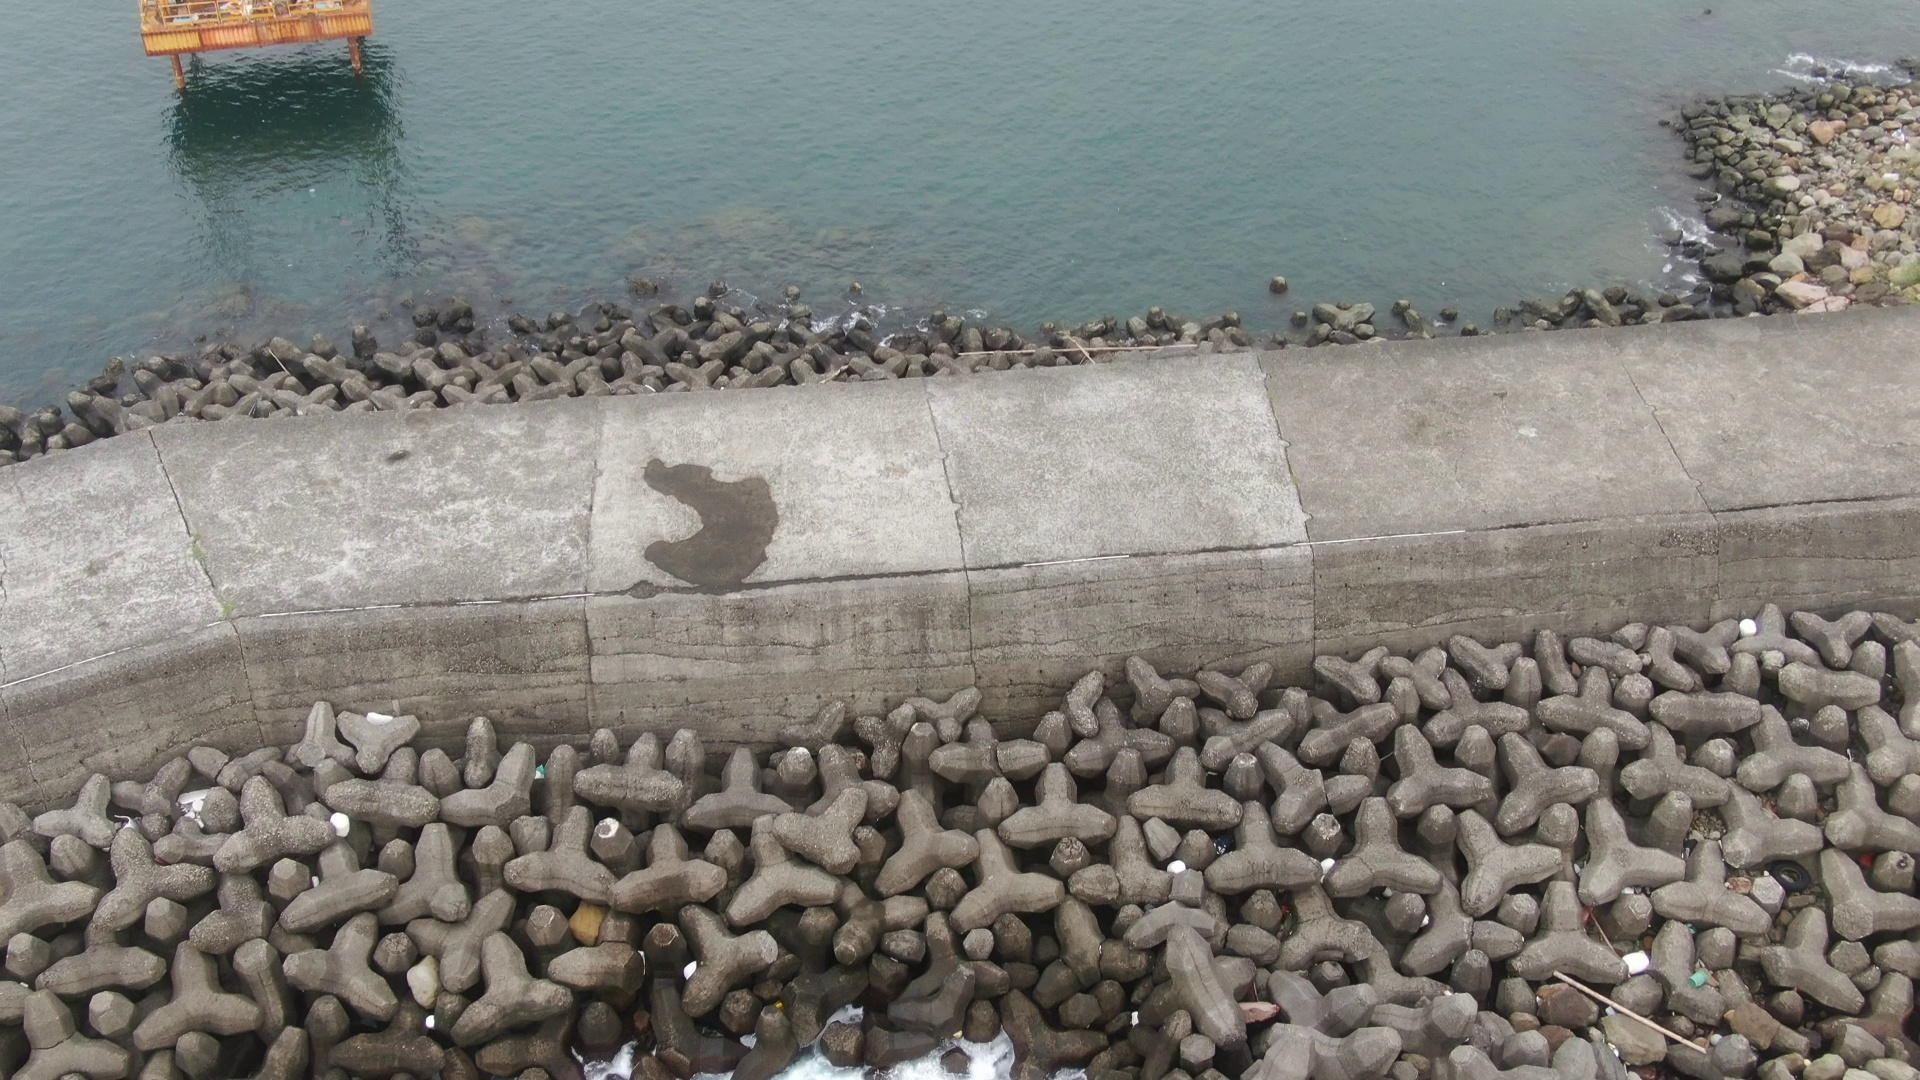garbage: (560, 897, 621, 951), (1677, 957, 1714, 997), (1615, 942, 1655, 978), (1575, 891, 1602, 934), (327, 804, 359, 840), (1737, 604, 1762, 649), (1851, 843, 1882, 876), (529, 761, 556, 793), (682, 956, 707, 990)
